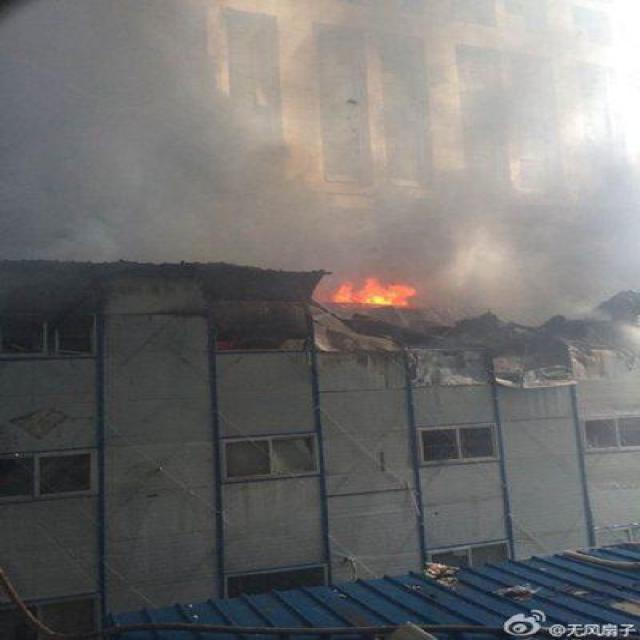fire: (298, 258, 438, 320)
smoke: (0, 9, 304, 271), (329, 24, 633, 282)
